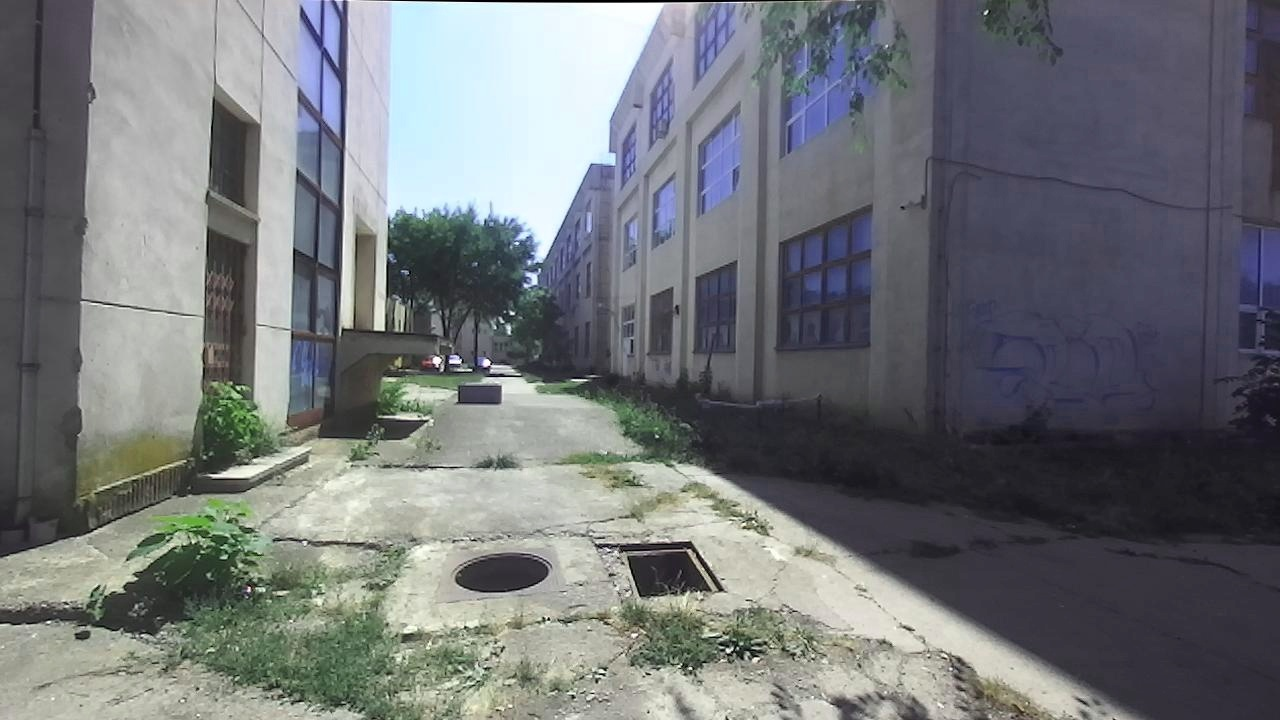drain: (610, 537, 730, 601), (445, 548, 556, 596)
